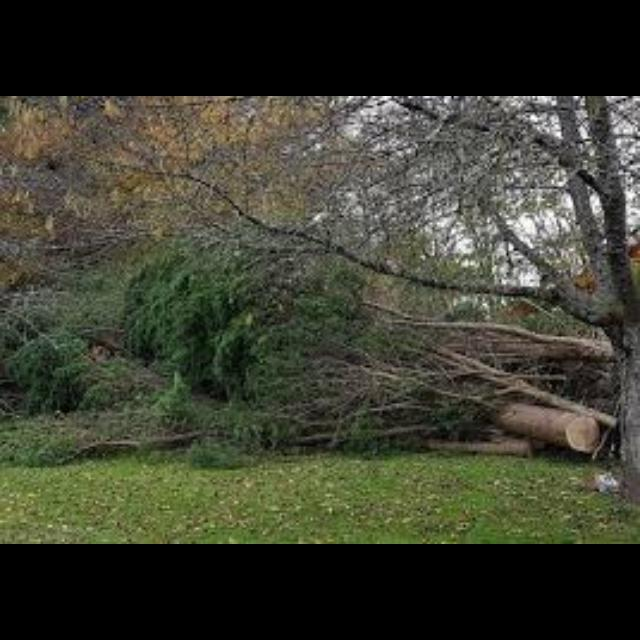Fallen Tree: (380, 368, 608, 464)
